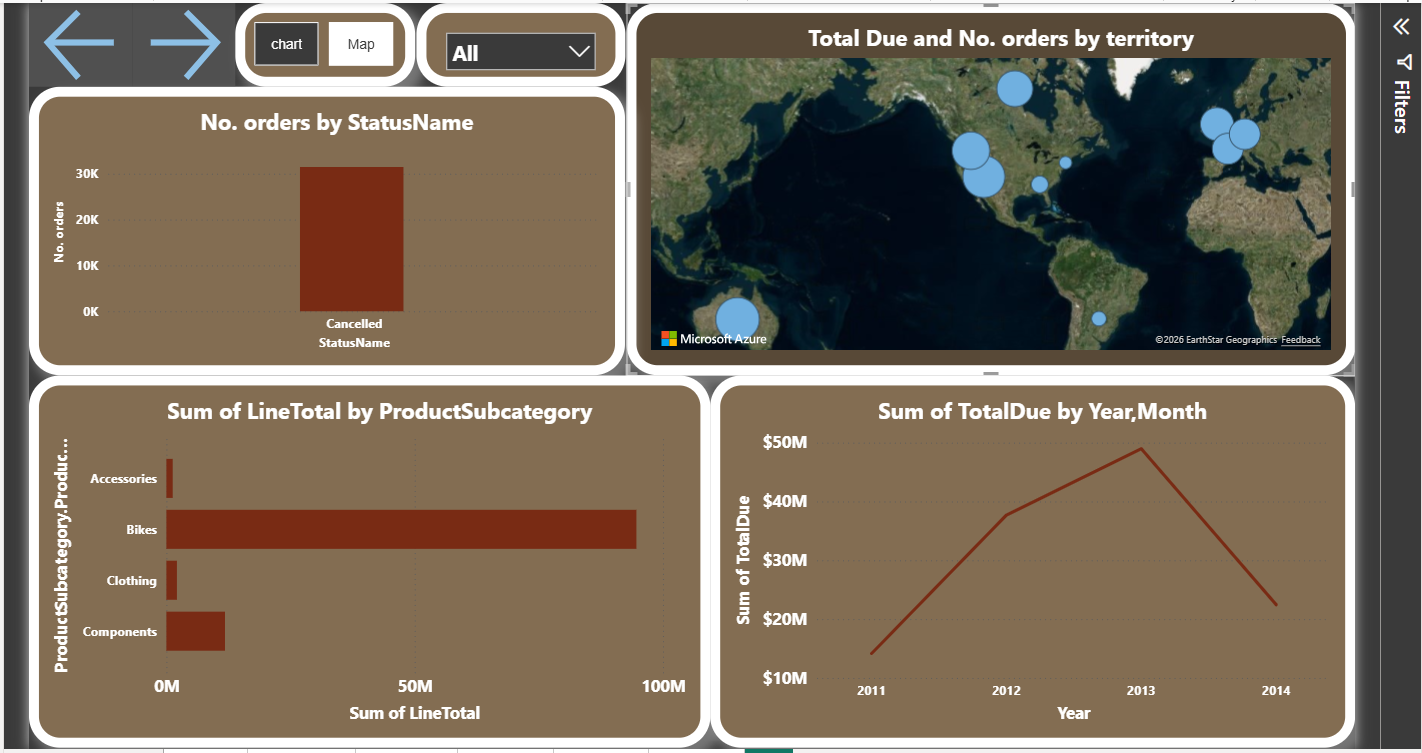

Layout of this report page (visuals, bound fields, positions):
{"tool":"powerbi","page":{"name":" territory","canvas":[1280,720],"ordinal":1},"visuals":[{"type":"lineStackedColumnComboChart","fields":{"Y2":["Mymeasures.No. orders"],"Category":["Territory.territory"],"Y":["Mymeasures.Total Due"]},"box":[576,0,704.4,359.6],"z":0},{"type":"bookmarkNavigator","box":[199.1,0,173.7,80.8],"z":2000},{"type":"columnChart","fields":{"Category":["Status.StatusName"],"Y":["Mymeasures.No. orders"]},"box":[0,80.8,575.5,278.7],"z":3000},{"type":"barChart","title":"Sum of LineTotal by ProductSubcategory","fields":{"Category":["Product.ProductSubcategory.ProductCategory.category"],"Y":["Sum(OrderDetail.LineTotal)"]},"box":[0,359.5,657.9,359.5],"z":4000},{"type":"slicer","fields":{"Values":["Territory.territory"]},"box":[374,0,201.5,80.8],"z":5000},{"type":"lineChart","title":"Sum of TotalDue by Year,Month","fields":{"Y":["Sum(OrderDetail.TotalDue)"],"Category":["Dates.Date.Variation.Date Hierarchy.Year","Dates.Date.Variation.Date Hierarchy.Month"]},"box":[657.9,359.5,622.4,359.5],"z":7000},{"type":"actionButton","box":[0,0,100.1,80.8],"z":9000},{"type":"actionButton","box":[100.1,0,98.9,80.8],"z":10000}]}

Visuals, with their boxes on the page's 1280x720 design canvas (x1, y1, x2, y2). These are canvas units, not pixel positions in the 1422x753 screenshot, which may show the page scaled, cropped or inside an application window:
lineStackedColumnComboChart - Mymeasures.No. orders x Territory.territory: l=576, t=0, r=1280, b=360
bookmarkNavigator: l=199, t=0, r=373, b=81
columnChart - Status.StatusName x Mymeasures.No. orders: l=0, t=81, r=576, b=360
"Sum of LineTotal by ProductSubcategory" barChart: l=0, t=360, r=658, b=719
slicer - Territory.territory: l=374, t=0, r=576, b=81
"Sum of TotalDue by Year,Month" lineChart: l=658, t=360, r=1280, b=719
actionButton: l=0, t=0, r=100, b=81
actionButton: l=100, t=0, r=199, b=81
